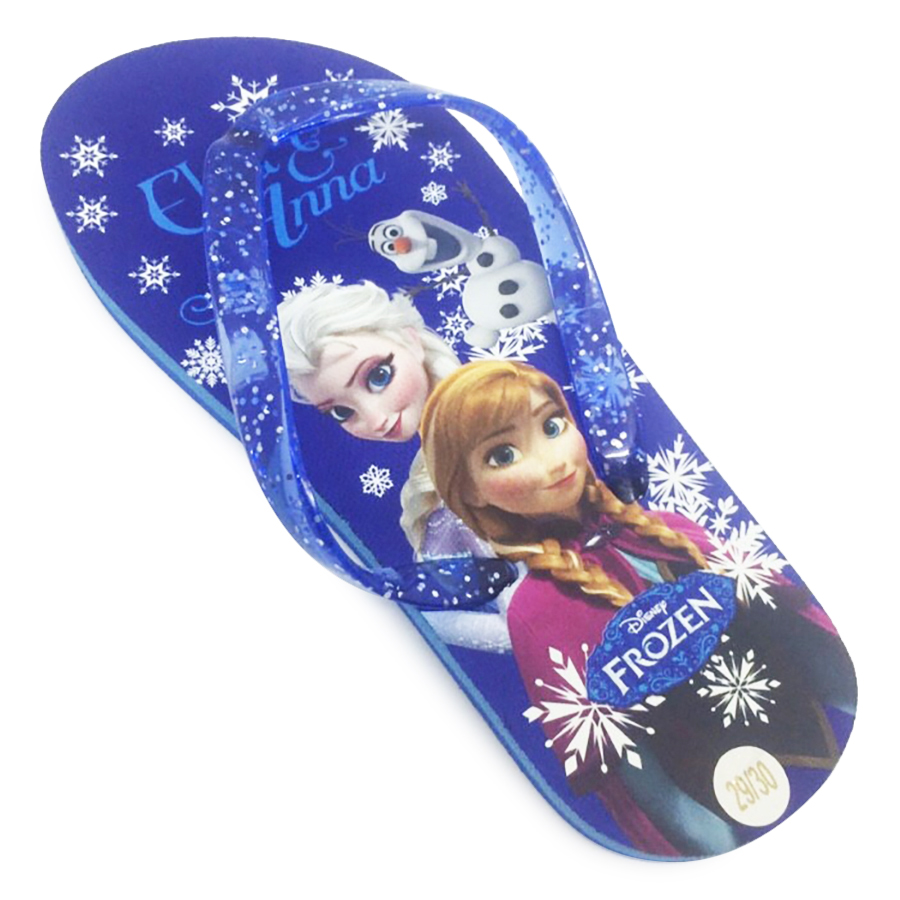Disney: (619, 589, 674, 648)
